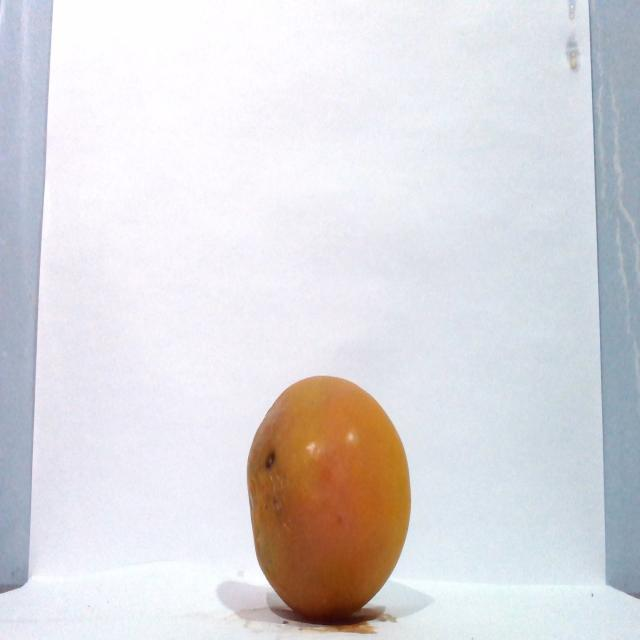Red: (245, 373, 412, 621)
